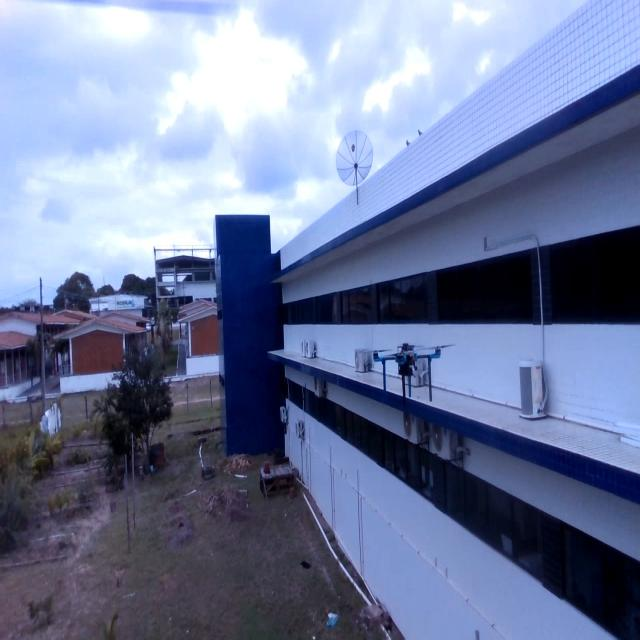-uav-: (361, 326, 448, 421)
